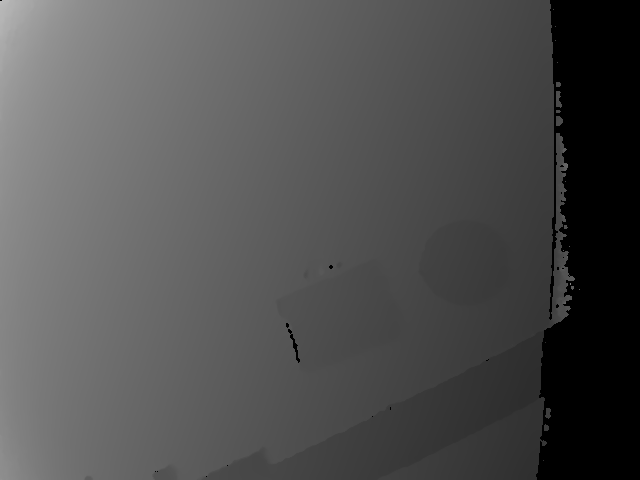high: (355, 271, 373, 293)
low: (377, 224, 393, 247)
